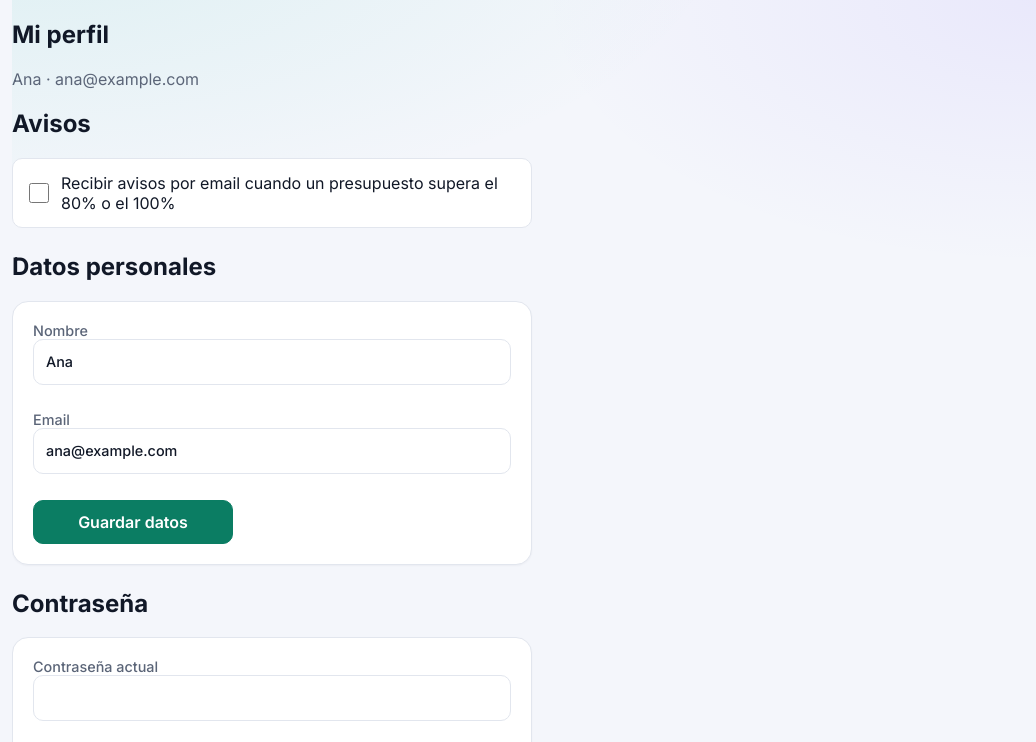
Test: PerfilView › el formulario de datos envía solo los campos modificados
Replace the text in the field named "nombre" with "Ana María": (272, 362) [33,338,511,384]
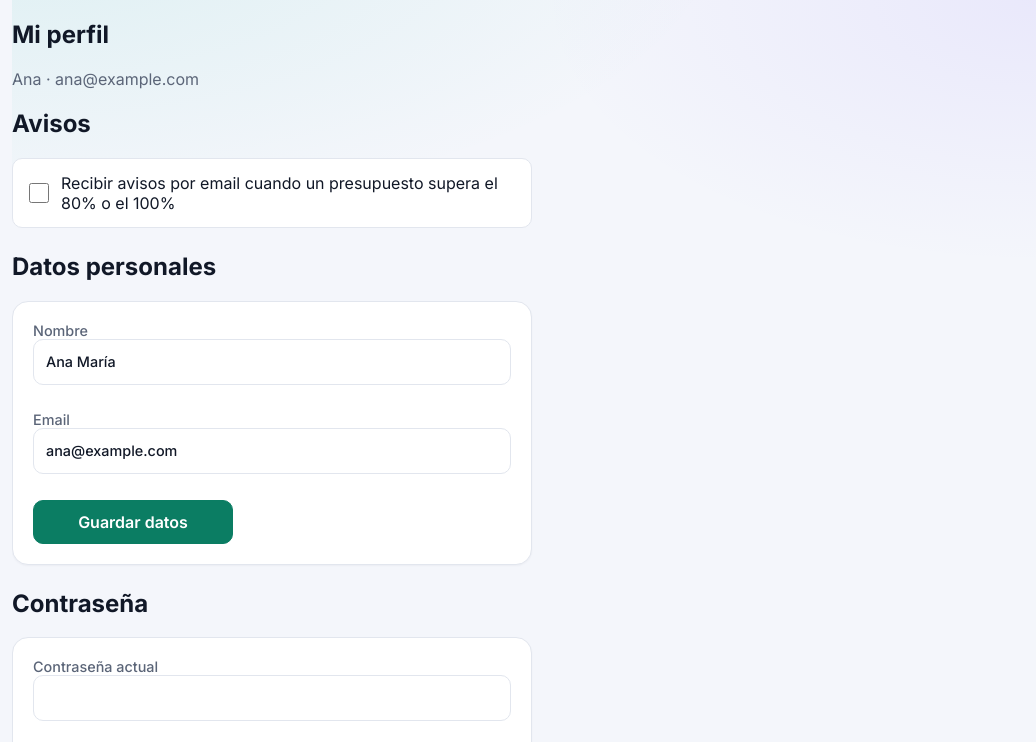
Submit the form named "Datos personales", box [12,300,532,564]
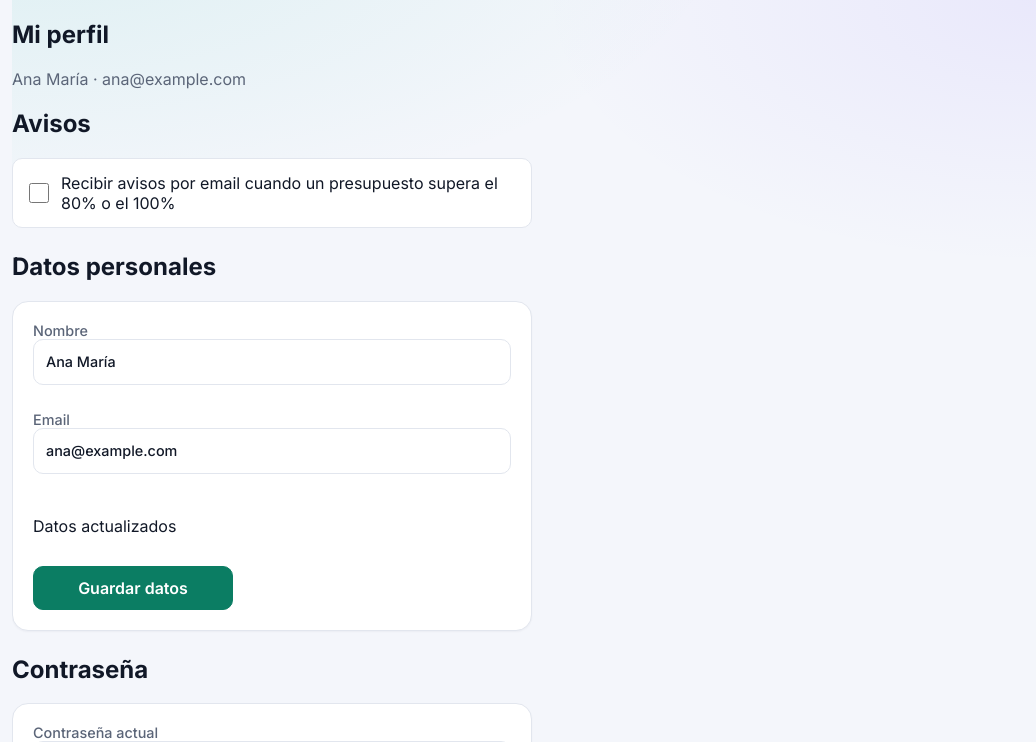
expect the message "Datos actualizados" is shown: met, box [33,516,176,536]
